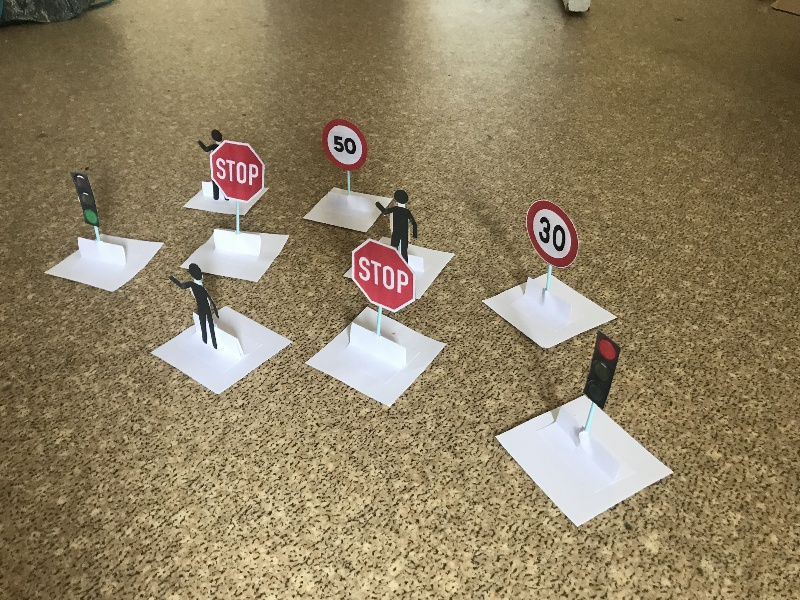green light: (66, 173, 107, 251)
person: (168, 261, 221, 353), (376, 188, 417, 267), (194, 129, 220, 204)
red light: (575, 333, 621, 446)
speed limit 30: (523, 197, 578, 313)
speed limit 50: (319, 118, 366, 206)
stop sign: (351, 238, 416, 361), (211, 141, 266, 249)
